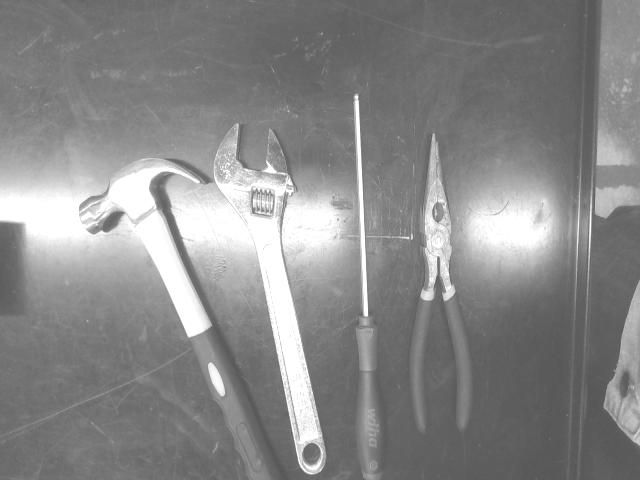Adjustable spanner: (214, 124, 325, 473)
Hammer: (79, 158, 280, 480)
Needle-nose pliers: (410, 134, 472, 433)
Screwdriver: (354, 94, 385, 480)
